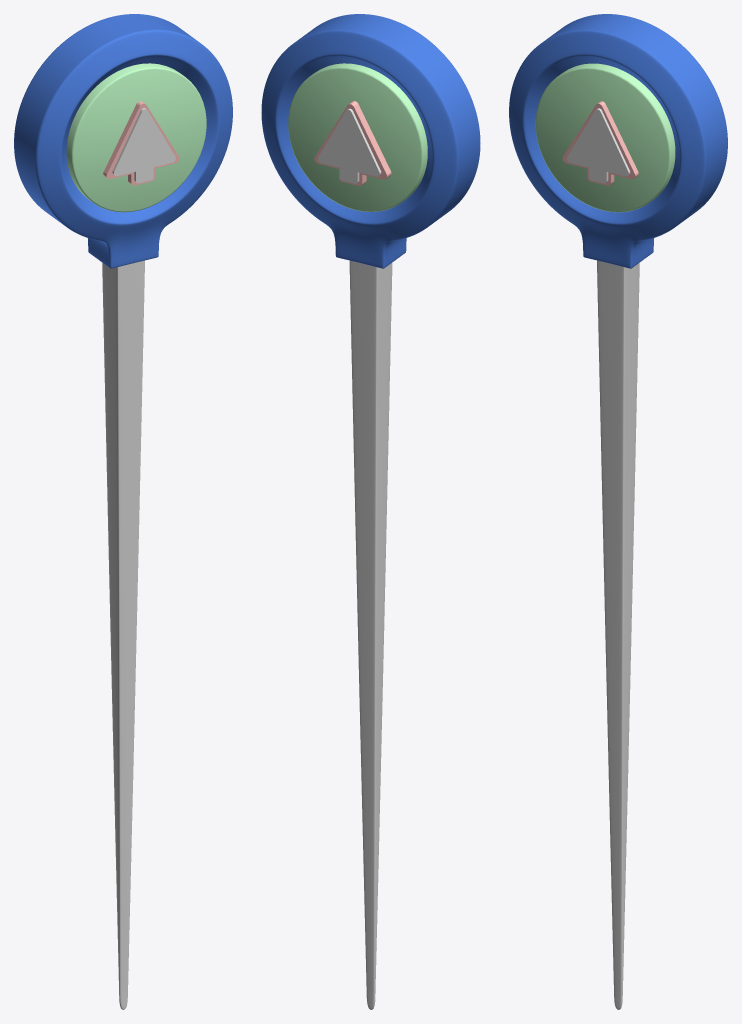
The model's file is BossPin.glb.
3 views of the same model, side by side, from view 1: azimuth 30°, elevation 25°; view 2: azimuth 150°, elevation 25°; view 3: azimuth 330°, elevation 25° (orthographic).
Visible parts, largest first — view 1: outer_ring, needle, inner_ring, white_arrow, blue_aw; view 2: outer_ring, needle, inner_ring, white_arrow, blue_aw; view 3: outer_ring, needle, inner_ring, white_arrow, blue_aw.
Boxes of the visible parts, x1,y1,x2,y2 form: outer_ring: (14,14,232,268); needle: (102,260,144,1009); inner_ring: (66,63,206,212); white_arrow: (112,108,175,183); blue_aw: (103,101,179,185); outer_ring: (261,14,480,268); needle: (349,260,392,1009); inner_ring: (288,63,427,211); white_arrow: (318,108,381,183); blue_aw: (314,101,391,186); outer_ring: (509,14,727,268); needle: (597,260,639,1009); inner_ring: (535,63,675,212); white_arrow: (567,108,630,183); blue_aw: (562,101,638,185).
Bounding box in the file's own units: 0.00319 × 0.0152 × 0.0012.
